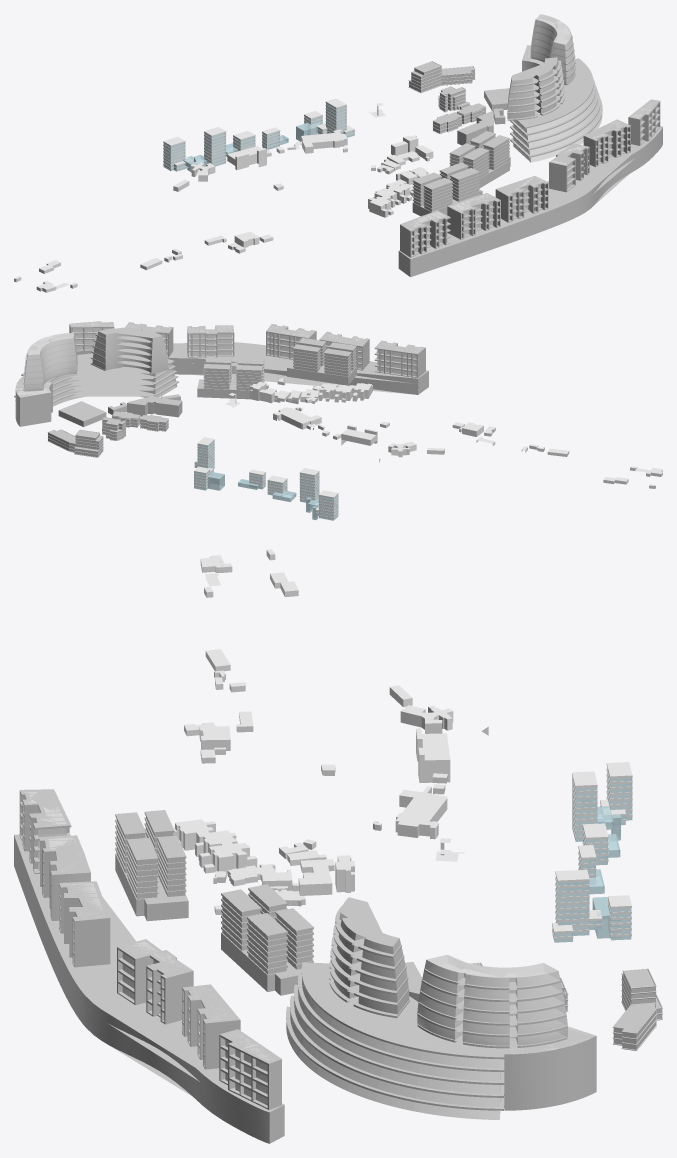
File: Building_Ori3.fbx
The picture shows the model from 3 angles, top to bottom: view 1: azimuth 30°, elevation 25°; view 2: azimuth 150°, elevation 25°; view 3: azimuth 270°, elevation 25°; orthographic projection. The views are drawn at different scales.
Parts seen in each view (by area): view 1: Building_Ori3; view 2: Building_Ori3; view 3: Building_Ori3.
Part boxes in pixels (x1=…): Building_Ori3: x1=14, y1=14, x2=662, y2=292; Building_Ori3: x1=14, y1=321, x2=662, y2=520; Building_Ori3: x1=14, y1=549, x2=662, y2=1143.
Bounding box in the file's own units: 633 × 81.1 × 314.
110 materials, 56 textured.
